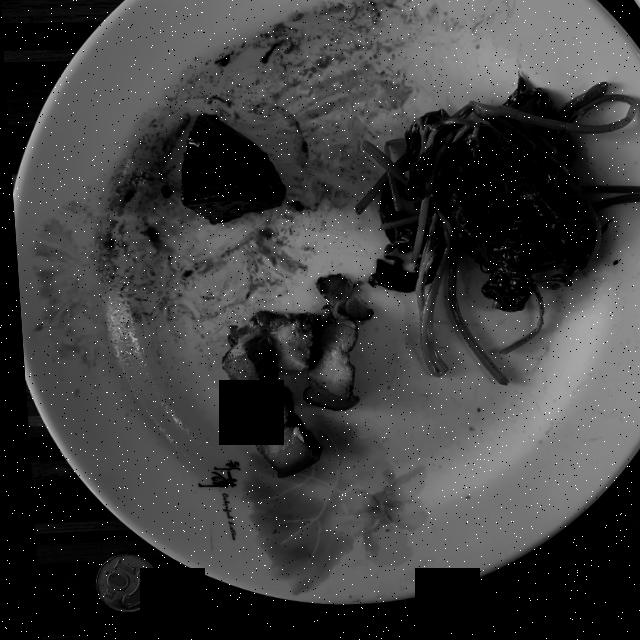coin: (88, 554, 150, 613)
grilled pork: (216, 279, 368, 482)
sweet potato leaves: (353, 85, 640, 393)
